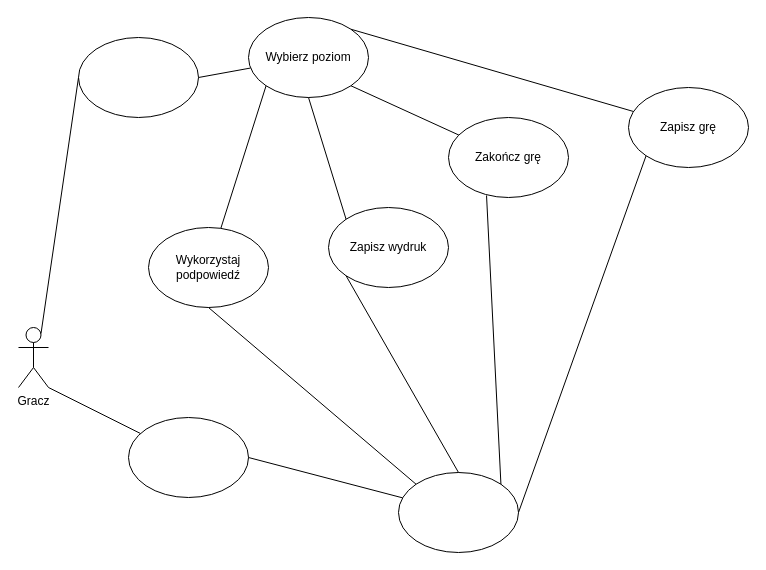
Some shapes in this 766 by 570 pixel diagram are drawn without their labels. The centre of each missing label's shape, as x and y in pixels:
Nowa gra: (x=138, y=77)
Wybierz zapis: (x=458, y=512)
Wznów zapisaną grę: (x=188, y=457)
